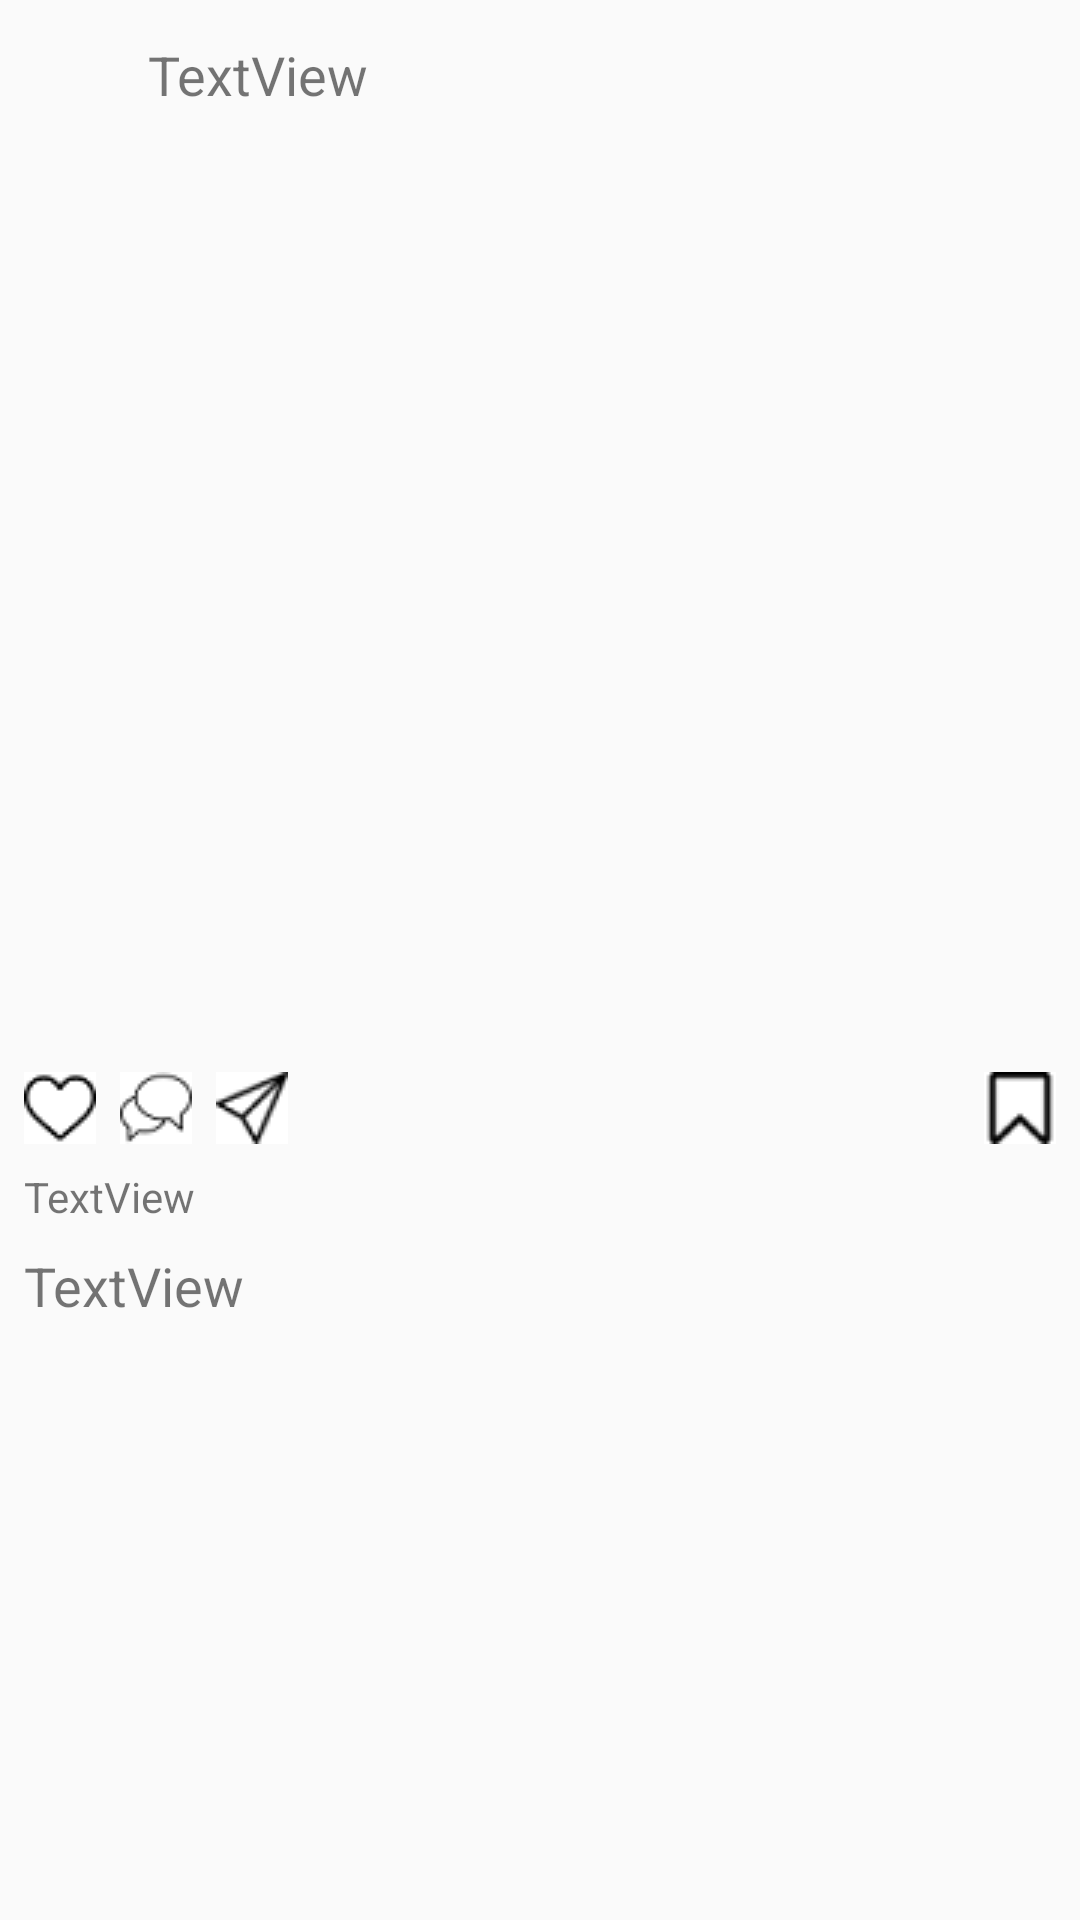

Screen size 1080x1920. Icon name, then its center in pixels as (x,y):
bookmark: (1020,1108)
chat: (156,1107)
like: (60,1108)
